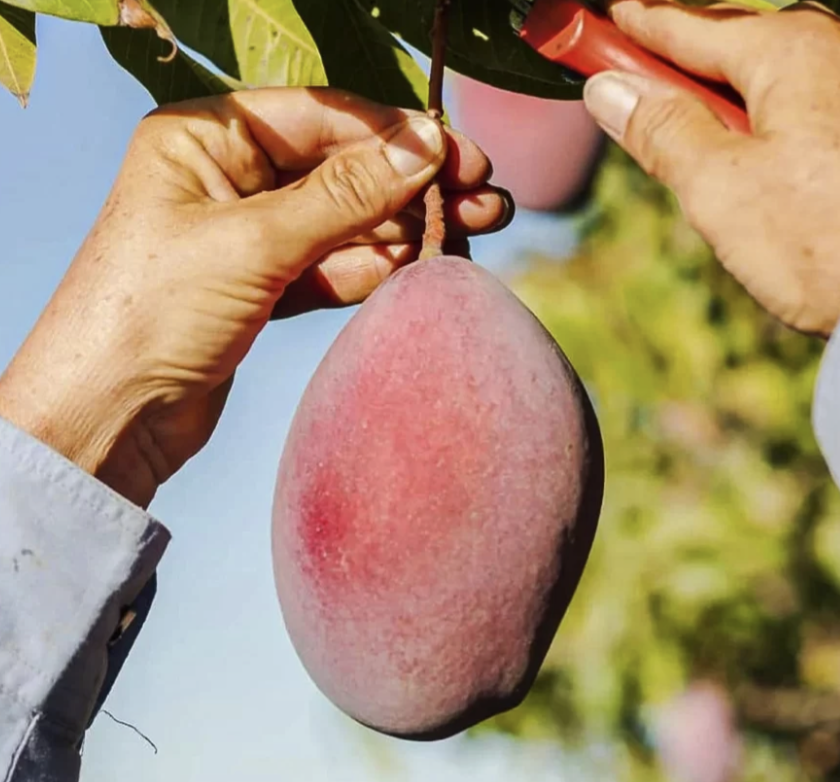mango: (243, 236, 645, 747)
